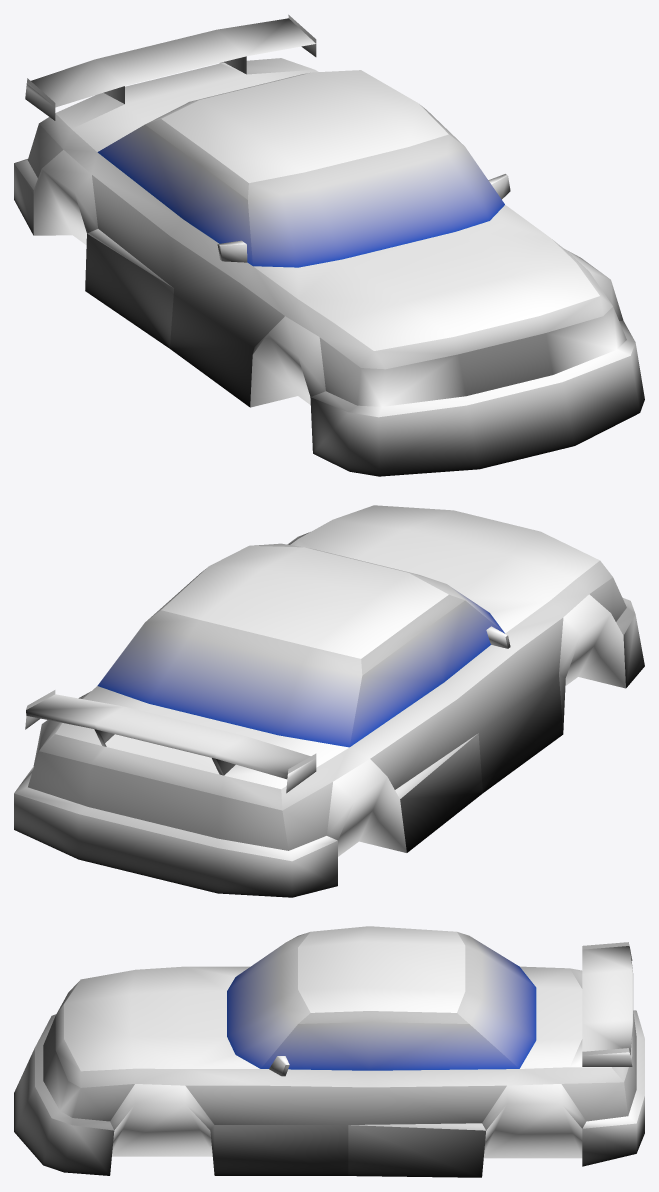
Rendered from Volken.fbx.
3 views of the same model, one above another, from view 1: azimuth 30°, elevation 25°; view 2: azimuth 150°, elevation 25°; view 3: azimuth 270°, elevation 25° (orthographic). The views are drawn at different scales.
Visible parts, largest first — view 1: body.prm; view 2: body.prm; view 3: body.prm.
Part boxes in pixels (<box>): body.prm: <box>14,14,644,476</box>; body.prm: <box>14,505,644,897</box>; body.prm: <box>14,926,644,1177</box>.
Bounding box in the file's own units: 6.66 × 3.51 × 13.59.
